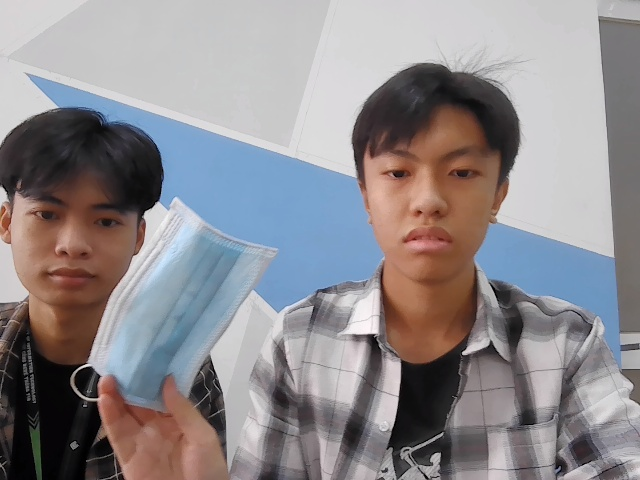human: (348, 58, 510, 280), (3, 107, 160, 303)
mask: (105, 198, 267, 408)
